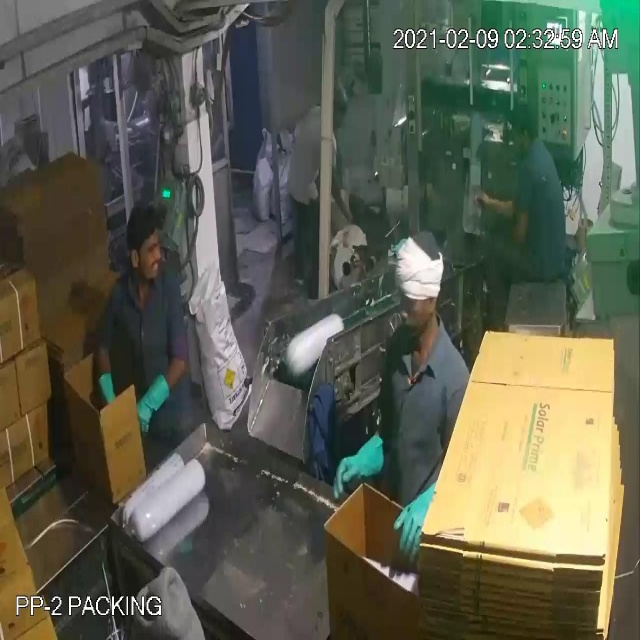Guantes: (389, 469, 452, 569), (326, 431, 394, 499), (124, 369, 180, 441), (87, 359, 128, 431)
Sin_guantes: (467, 162, 521, 236)
